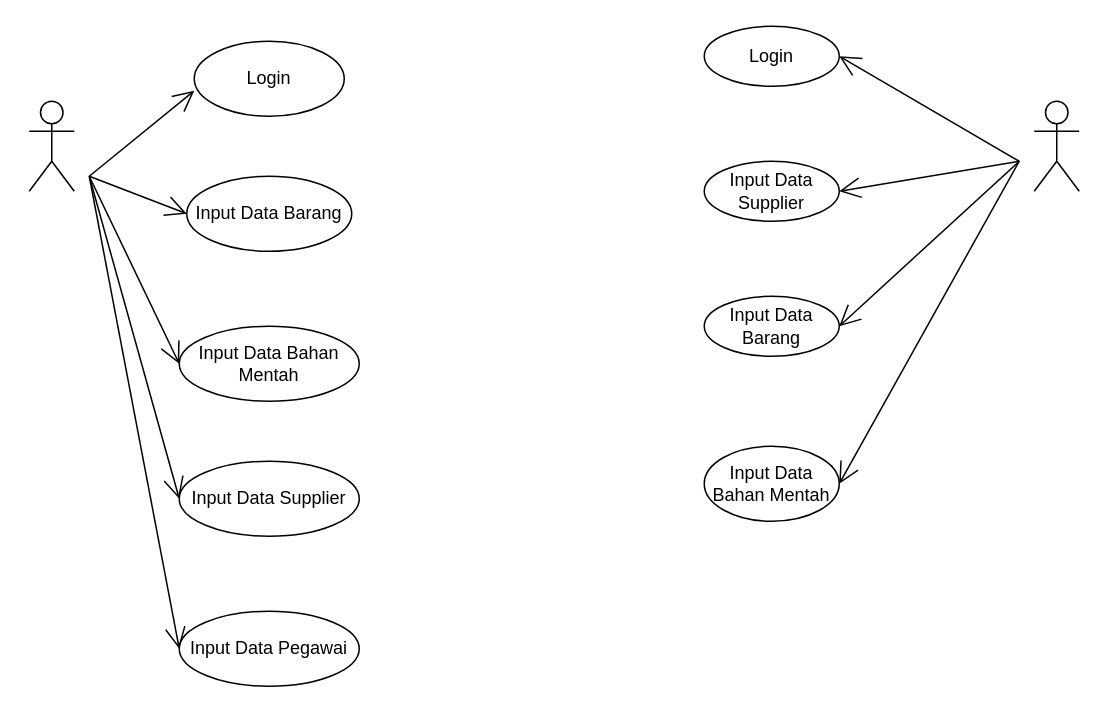
The diagram is 1116 pixels wide and 713 high, and some of its shapes have lost their labels. Here are the shapes that lost their labels. From the top down, the centre of each, then its label:
At pixel 51 145: "Admin".
At pixel 1056 145: "Pegawai".
